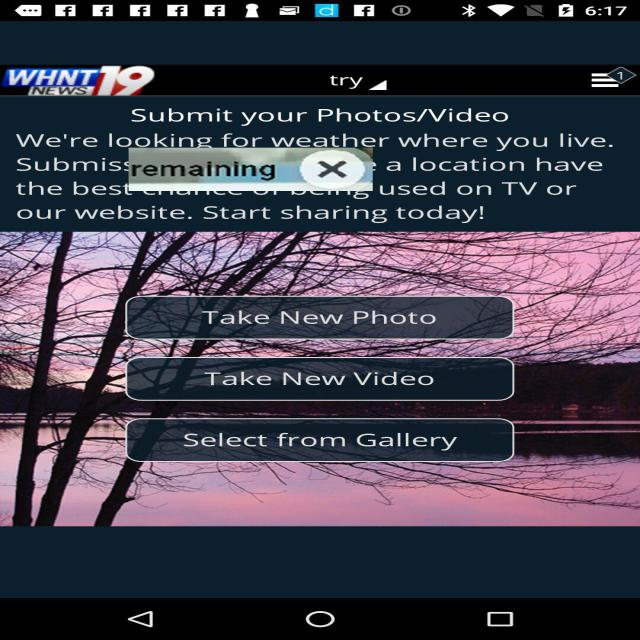misdirection: (128, 148, 372, 191)
